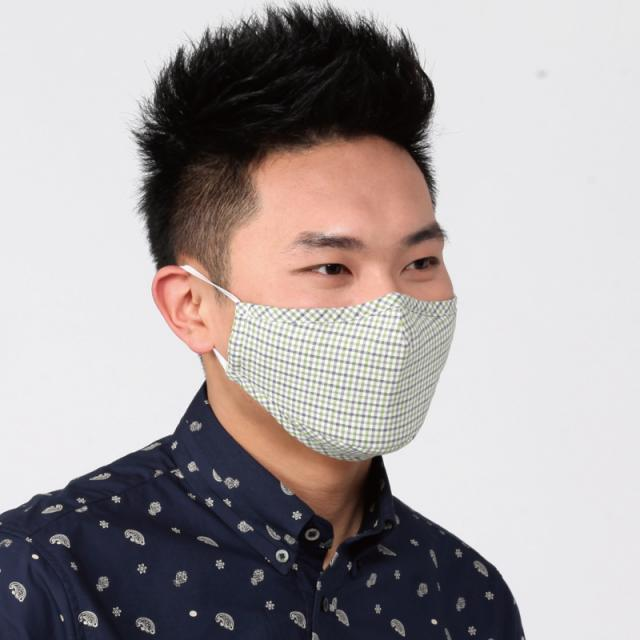mask: (222, 136, 450, 452)
